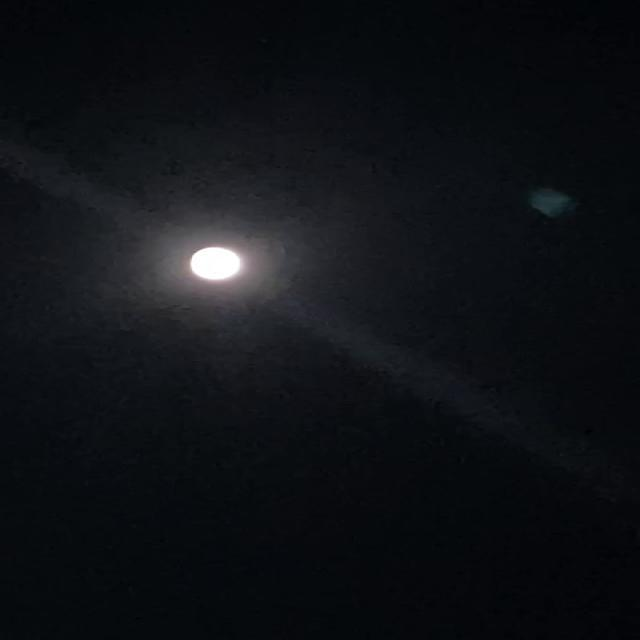moon: (167, 240, 258, 286)
